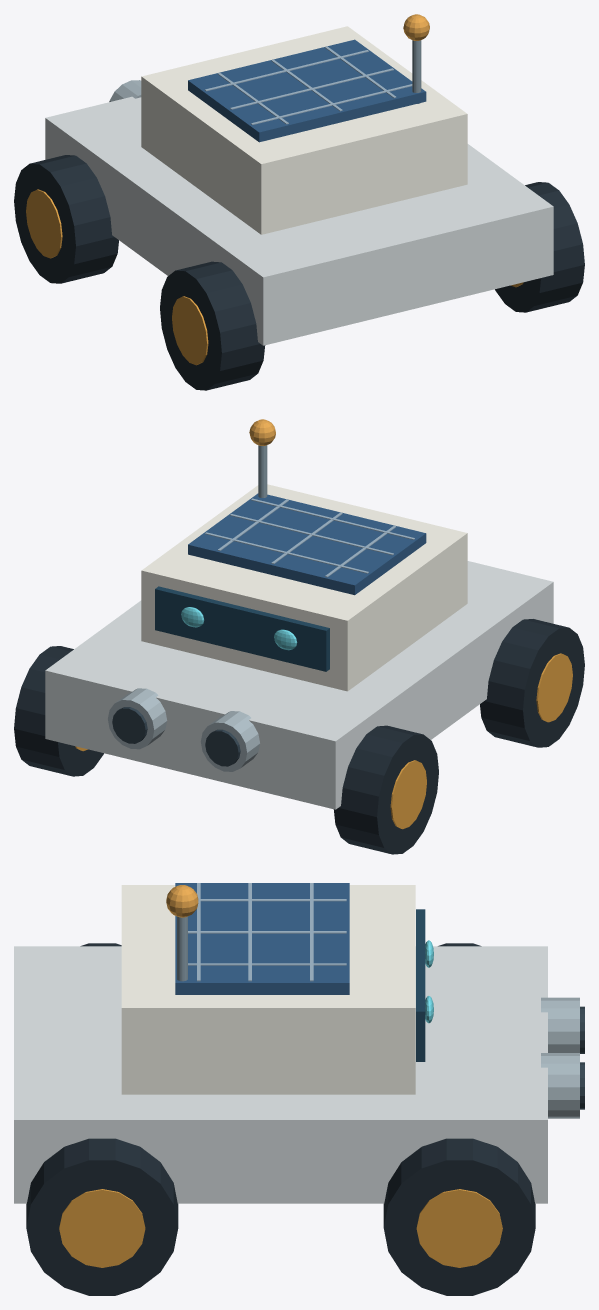
File: robot-car.glb
The picture shows the model from 3 angles, top to bottom: view 1: azimuth 30°, elevation 25°; view 2: azimuth 150°, elevation 25°; view 3: azimuth 270°, elevation 25°; orthographic projection. The views are drawn at different scales.
Visible parts, largest first — view 1: Chassis, Sensor body, Rubber tire (×3), Solar panel, Wheel hub (×2), Antenna tip, Antenna; view 2: Chassis, Sensor body, Rubber tire (×3), Solar panel, Face display, Wheel hub (×2), Ultrasonic rim (×2), Ultrasonic sensor (×2), Antenna tip; view 3: Chassis, Sensor body, Rubber tire (×2), Solar panel, Wheel hub (×2), Ultrasonic rim (×2), Face display, Antenna tip, Antenna.
Boxes of the visible parts, x1,y1,x2,y2 form: Chassis: (45,96,553,345); Sensor body: (141,26,467,234); Rubber tire (×3): (14,155,584,390); Solar panel: (188,39,426,142); Wheel hub (×2): (26,189,208,365); Antenna tip: (403,14,429,40); Antenna: (412,40,421,103); Chassis: (45,561,553,809); Sensor body: (141,484,467,691); Rubber tire (×3): (14,619,584,854); Solar panel: (188,493,426,595); Face display: (155,586,329,671); Wheel hub (×2): (390,653,572,829); Ultrasonic rim (×2): (108,688,259,771); Ultrasonic sensor (×2): (112,707,240,766); Antenna tip: (249,419,275,445); Chassis: (14,946,547,1203); Sensor body: (121,885,415,1094); Rubber tire (×2): (26,1138,535,1295); Solar panel: (175,883,349,994); Wheel hub (×2): (59,1189,502,1267); Ultrasonic rim (×2): (541,997,579,1118); Face display: (416,909,425,1061); Antenna tip: (166,885,198,917); Antenna: (177,916,187,981).
Bounding box in the file's own units: 2.52 × 1.86 × 2.78.
